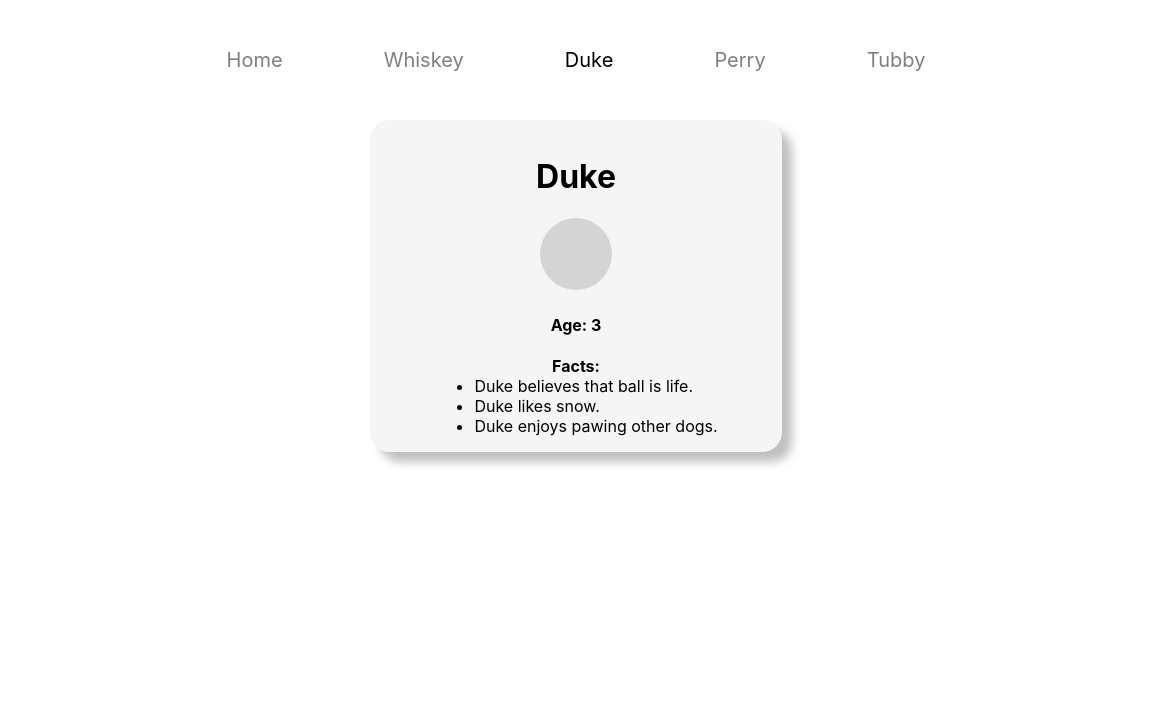
Test: check that the navbar links are working › should render the Doglist at /dogs for the Home NavLink
The image size is (1152, 720).
Check: the list item "Duke believes that ball is life." is shown, box [474, 376, 718, 396]
Click the link "Home" at (255, 60), box [227, 48, 283, 72]
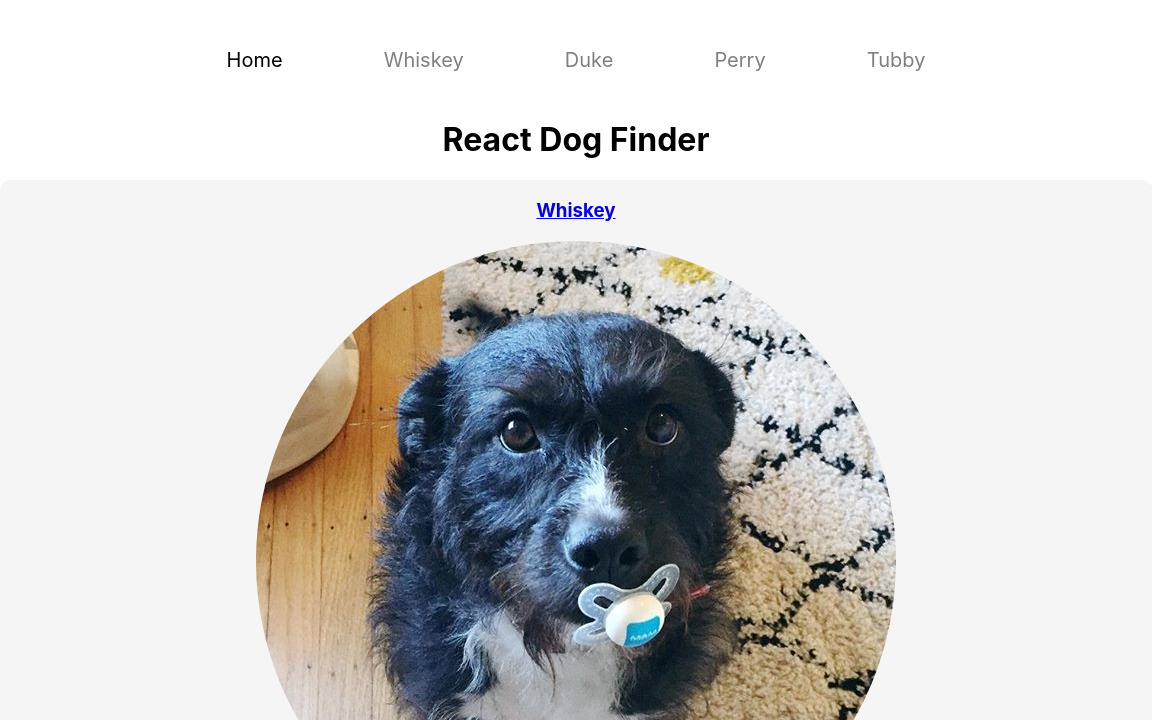
Check: the heading "React Dog Finder" is shown, box [443, 120, 710, 159]
